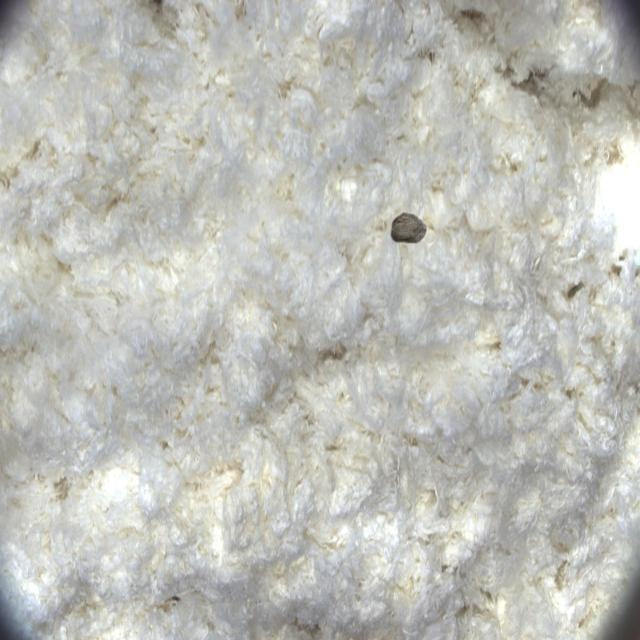dust: (373, 162, 456, 277)
